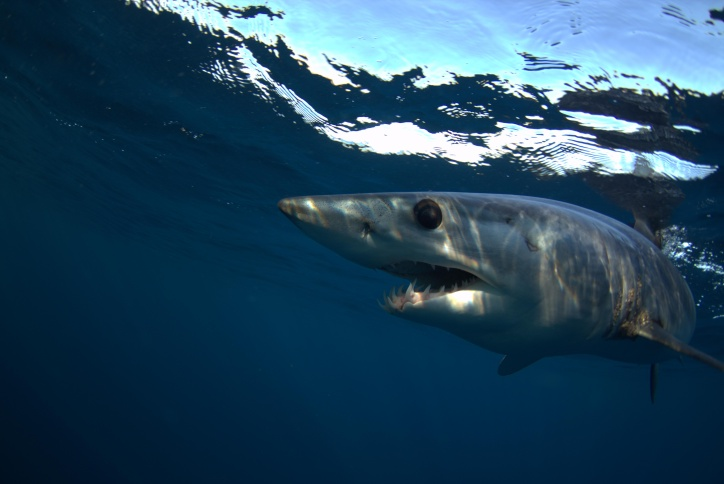Mako: (263, 178, 724, 374)
